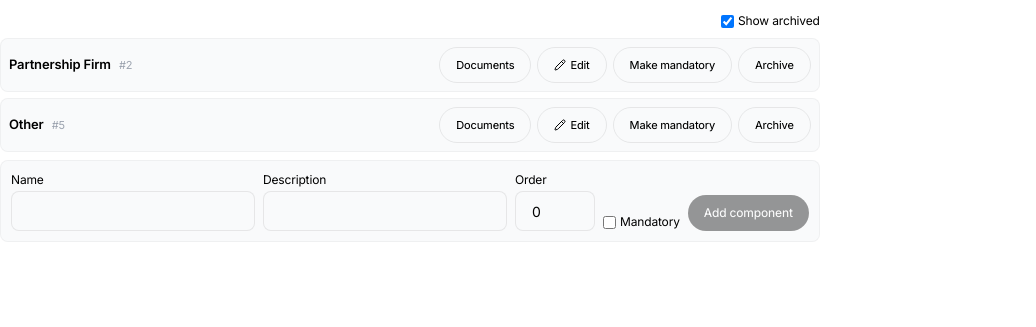
ComponentsEditor edit flow › disables Save while the update is pending
The width and height of the screenshot is (1036, 327).
What coordinates should you click on to do the following:
click the button "Edit" in the row of "Partnership Firm"
I would click on:
 (572, 65)
Its box is top-left (537, 47), bottom-right (606, 83).
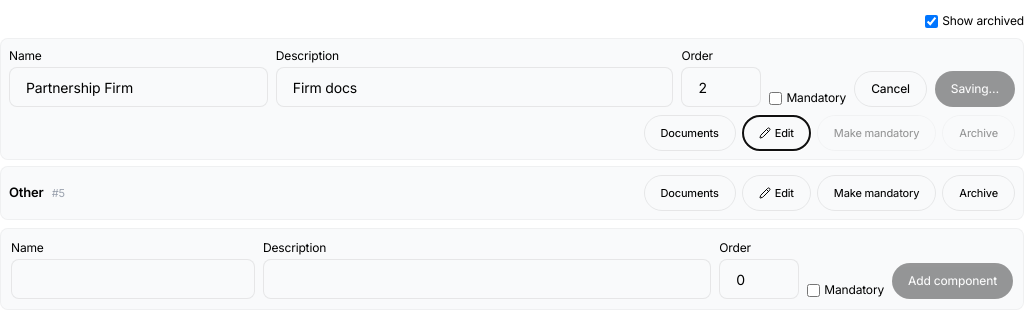
Expected: the button "Saving…" is disabled, top-left (935, 71), bottom-right (1015, 107)
